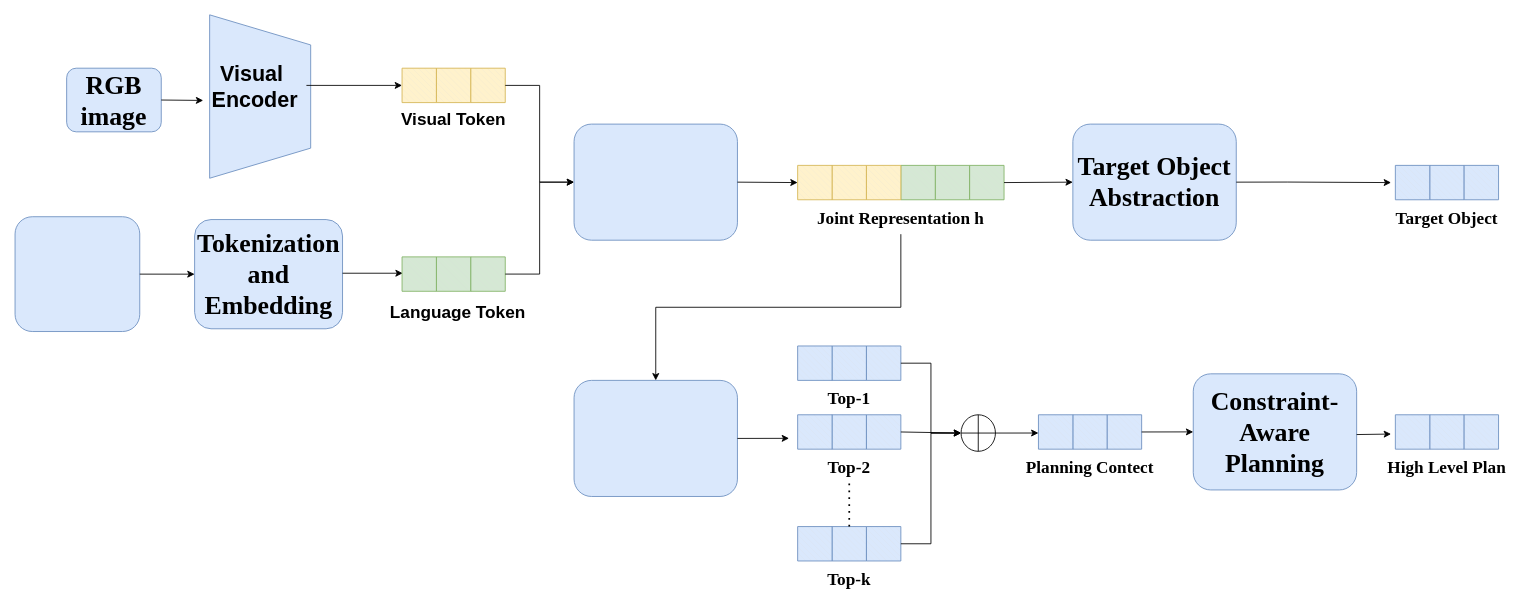
This 1531x611 diagram has some shape labels left out. The shapes that lost their labels are listed below. From the top down, each one's box as (x1, y1, x2, y2) in pixels, then its label:
(573, 123, 737, 240): Multimodal Semantic Parsing
(14, 216, 140, 332): Natural-Language Instruction
(573, 380, 737, 496): Experience Retrieval
